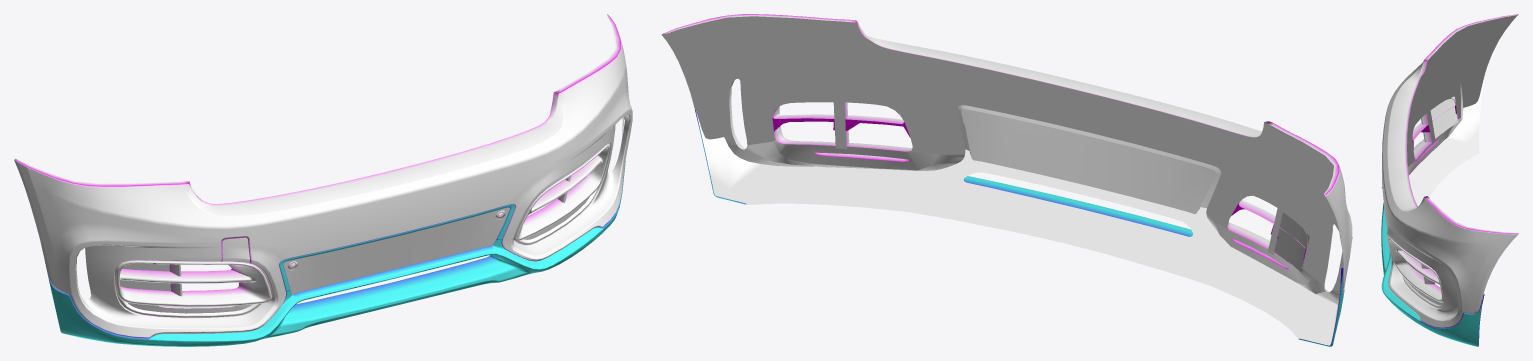
The model's file is Car_Mini_CountrymanJCW_2017_BumperF_SetA_AltA.fbx.
3 views of the same model, side by side, from view 1: azimuth 30°, elevation 25°; view 2: azimuth 150°, elevation 25°; view 3: azimuth 270°, elevation 25° (orthographic). The views are drawn at different scales.
Parts seen in each view (by area): view 1: BumperF 6; view 2: BumperF 6; view 3: BumperF 6.
Part boxes in pixels (x1=…): BumperF 6: x1=14, y1=14, x2=632, y2=346; BumperF 6: x1=661, y1=14, x2=1352, y2=346; BumperF 6: x1=1381, y1=14, x2=1518, y2=346.
Bounding box in the file's own units: 1.74 × 0.4584 × 0.4608.
